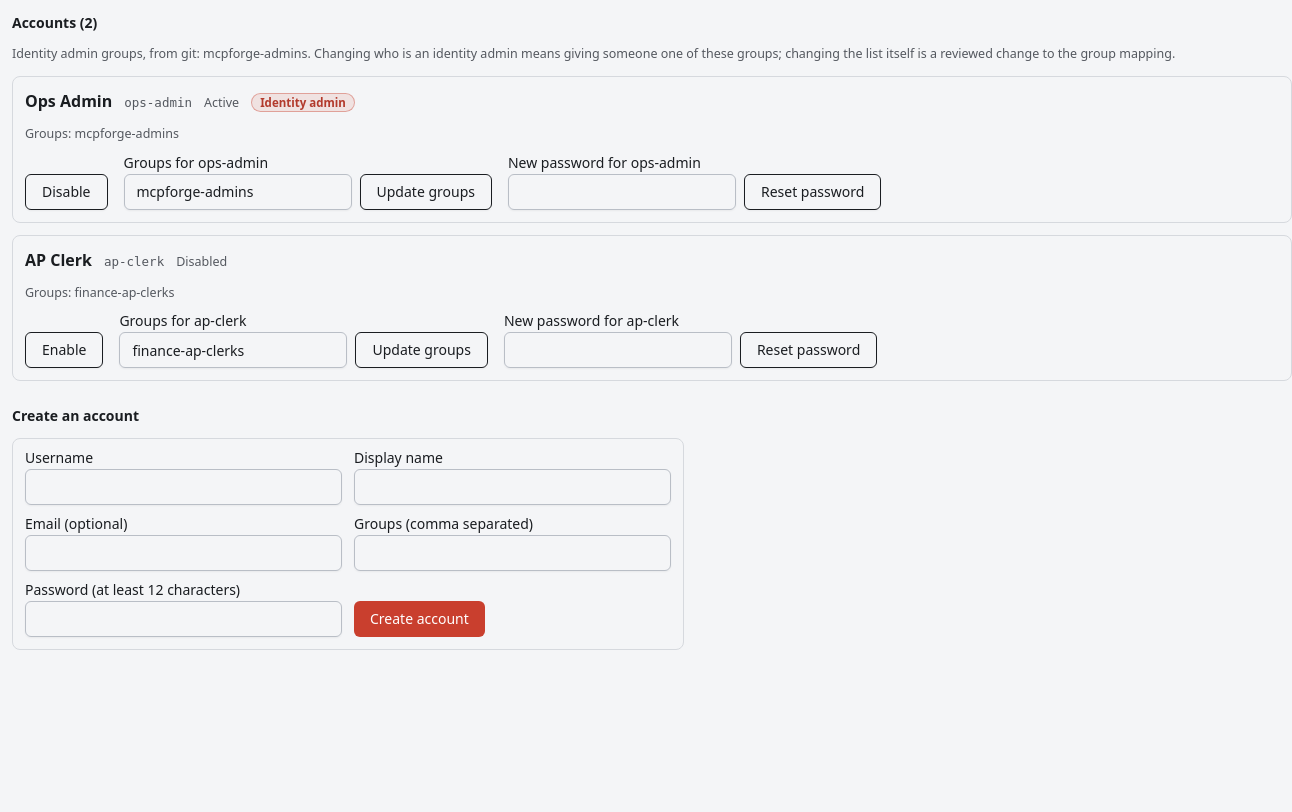
Test case: UsersAdmin › shows a refusal with its code and next
Click the button "Disable" at (66,192), box [25,174,108,210]
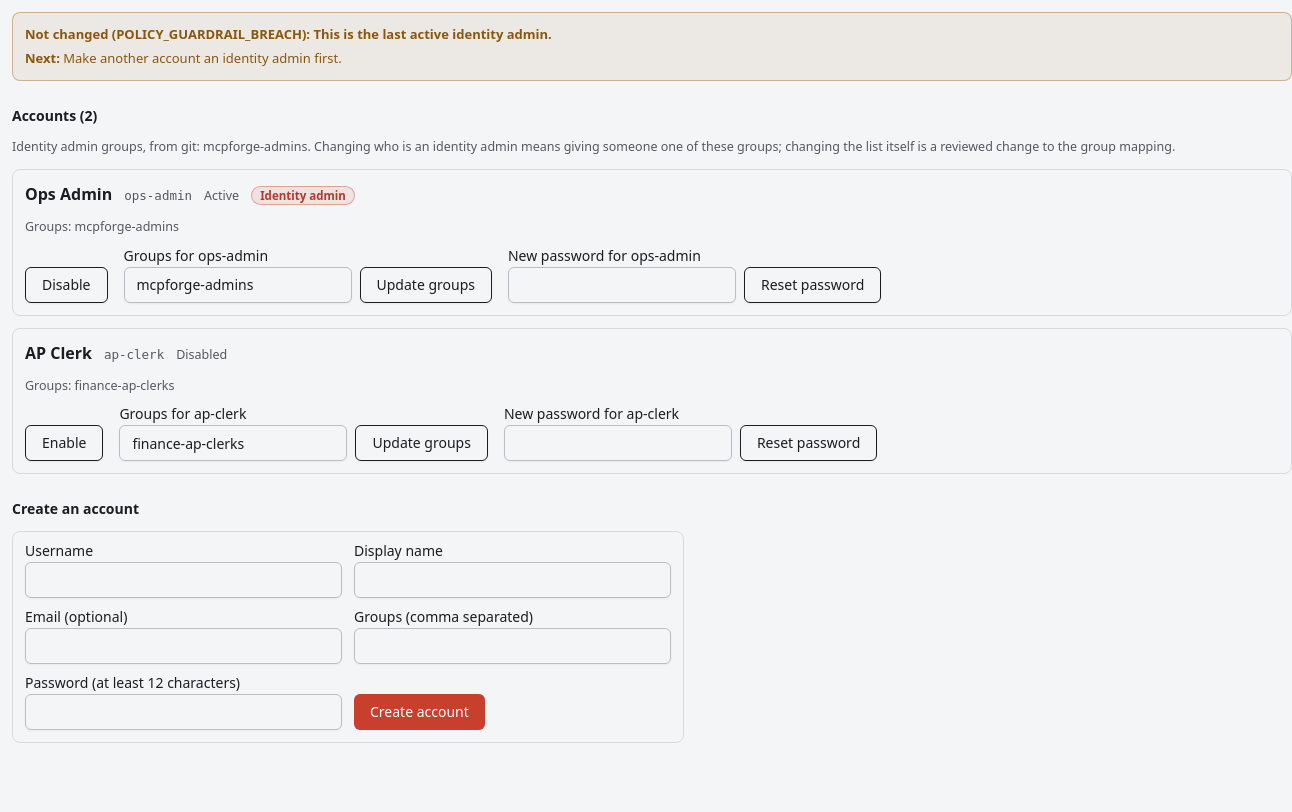
Result: the message with test id "user-admin-refused" is shown at [12,12,1291,81]
Result: the message with test id "user-admin-refused" shows "POLICY_GUARDRAIL_BREACH" at [108,25,306,43]
Result: the element with test id "user-admin-next" shows "another account" at [63,48,342,66]
